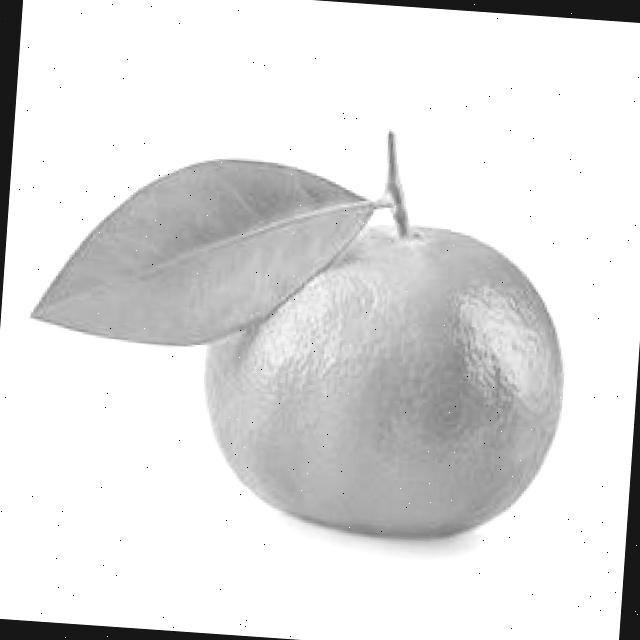Ripe: (184, 198, 582, 546)
